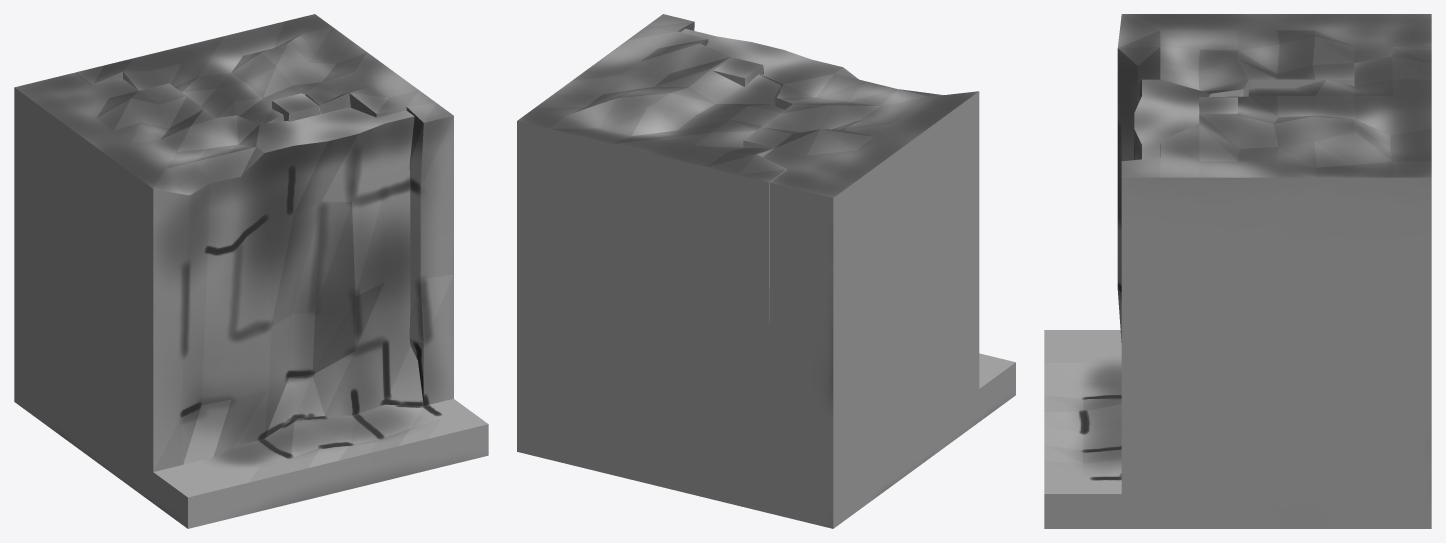
File: wall.fbx
The picture shows the model from 3 angles, left to right: view 1: azimuth 30°, elevation 25°; view 2: azimuth 150°, elevation 25°; view 3: azimuth 270°, elevation 25°; orthographic projection. The views are drawn at different scales.
Parts seen in each view (by area): view 1: Cube; view 2: Cube; view 3: Cube.
Boxes of the visible parts, left/top/right/bottom form: Cube: left=14, top=14, right=488, bottom=528; Cube: left=517, top=14, right=1015, bottom=528; Cube: left=1044, top=14, right=1431, bottom=528.
Bounding box in the file's own units: 100 × 105 × 100.
Materials: 1 (1 with a texture image).
